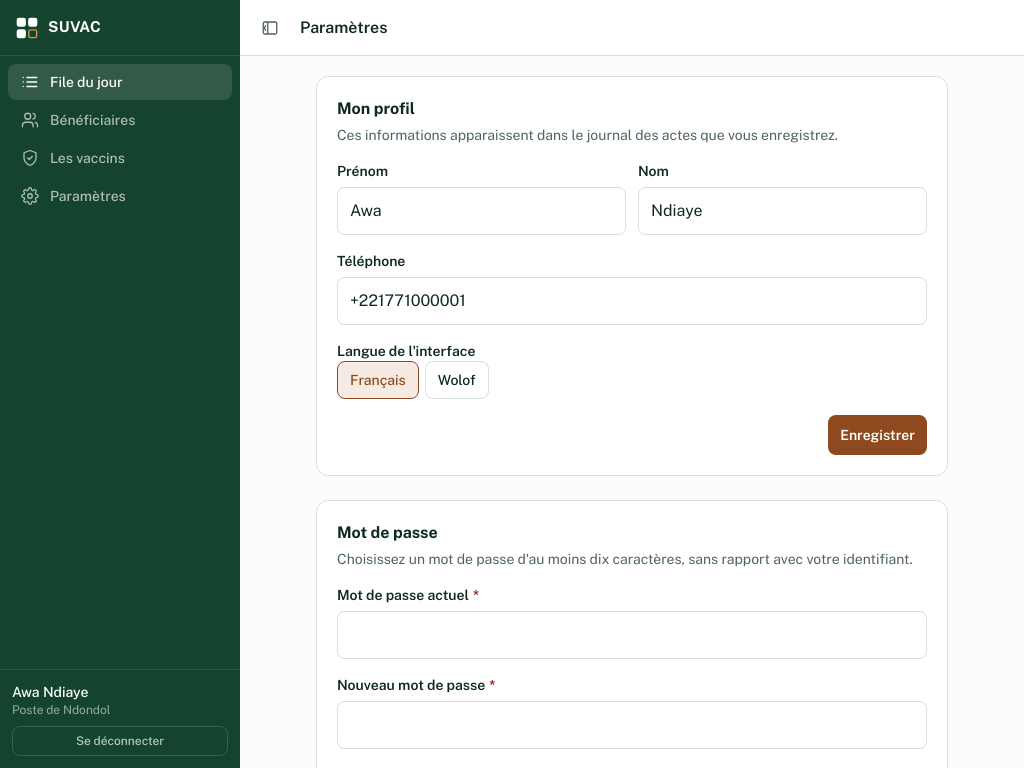
Test: Parametres › explique le refus quand l'ancien mot de passe est incorrect
Type "faux" into the password field labelled "Mot de passe actuel*" at x=632, y=635, box [337,611,927,659]
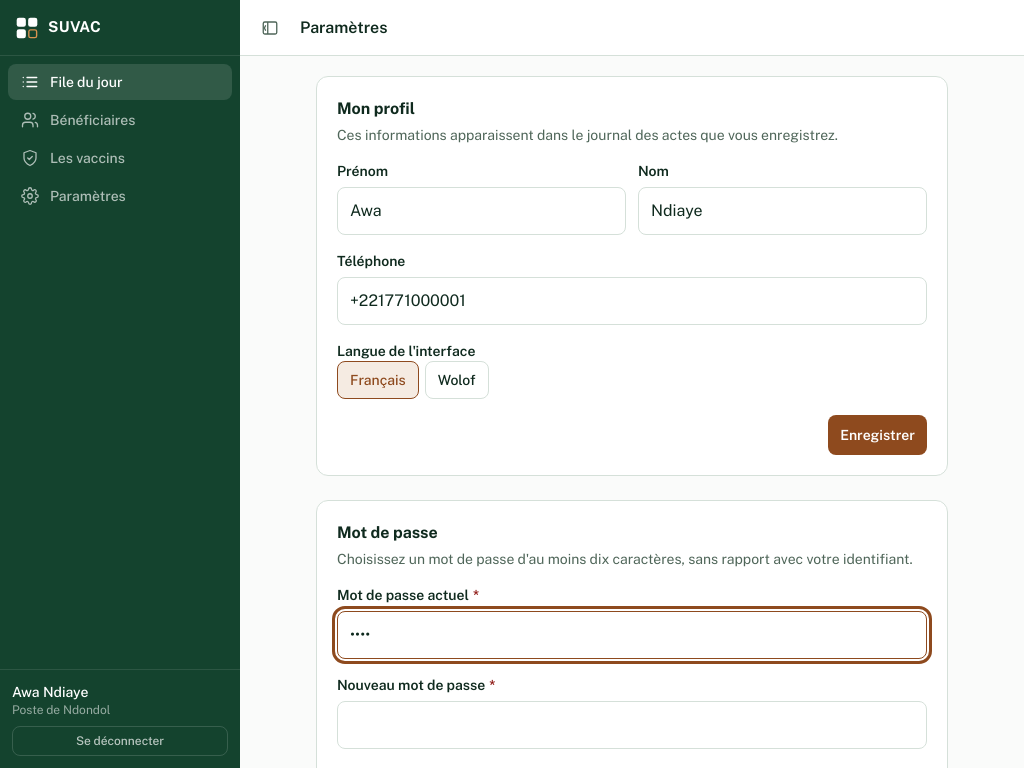
Type "abcdefghij" into the password field labelled "Nouveau mot de passe*" at x=632, y=725, box [337,701,927,749]
(page scrolled)
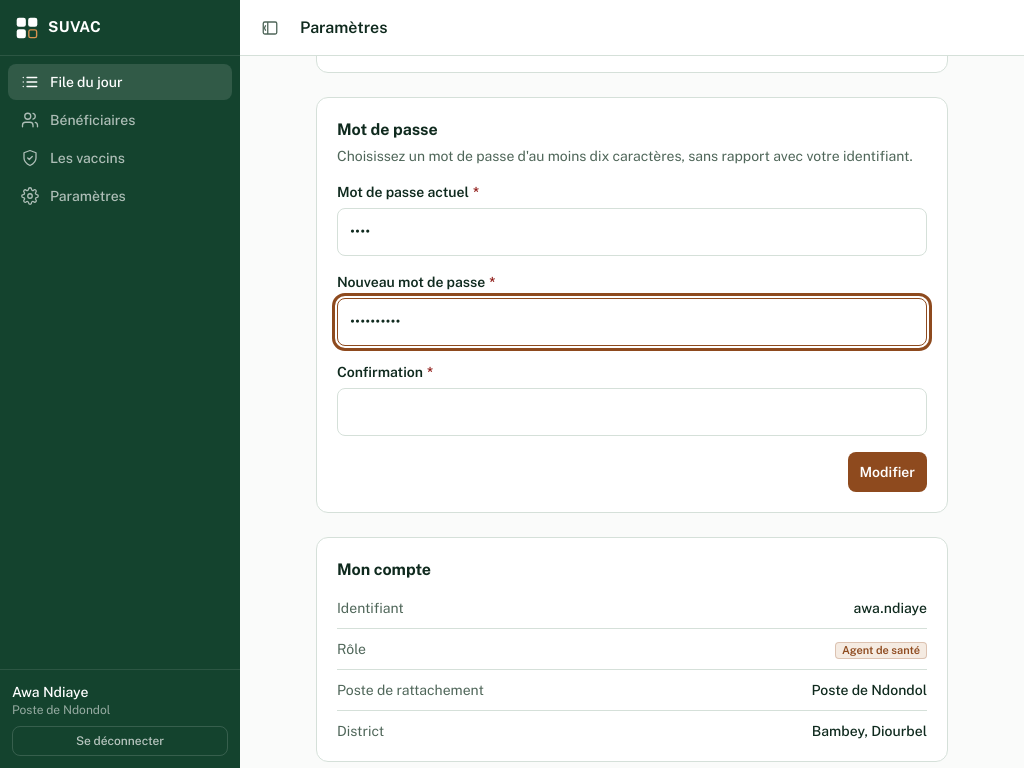
Type "abcdefghij" into the password field labelled "Confirmation*" at x=632, y=412, box [337,388,927,436]
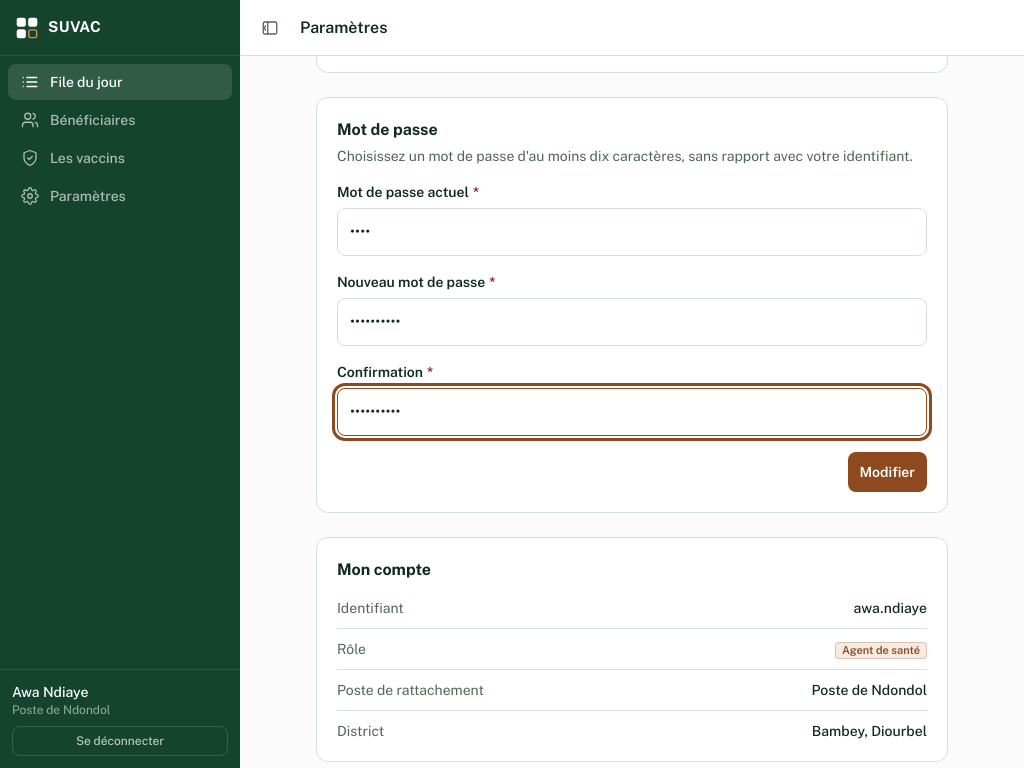
Click the button "Modifier" at x=887, y=472, box [848,452,927,492]
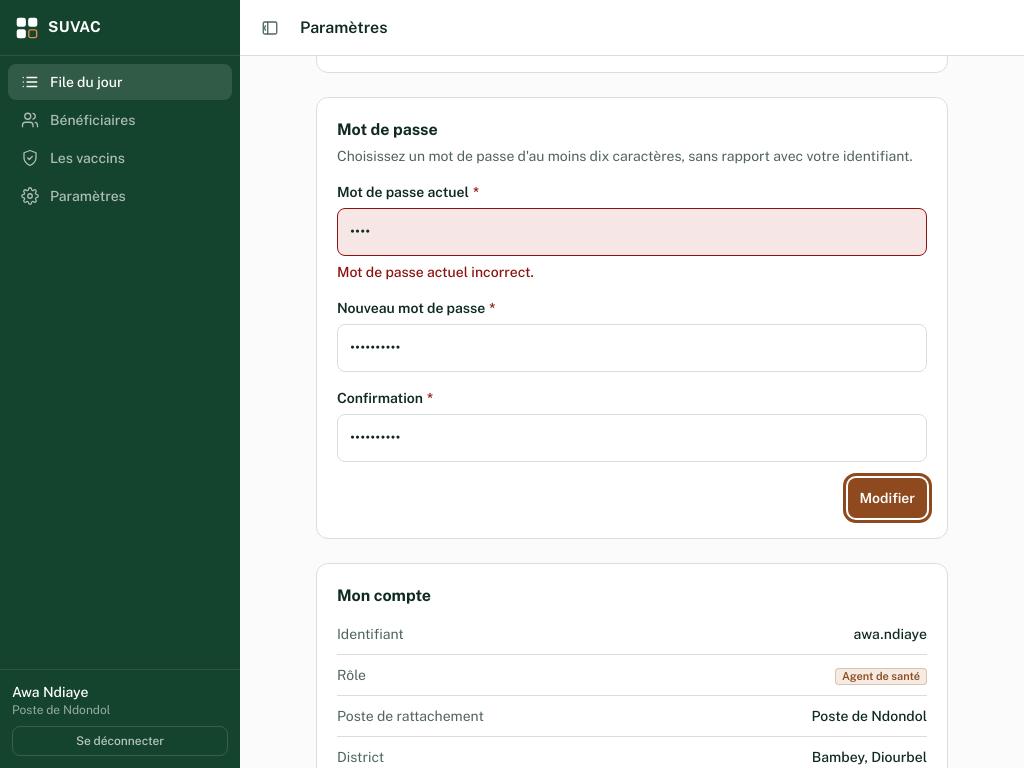
Expected: the text "Mot de passe actuel incorrect." is shown, [337,264,534,280]
